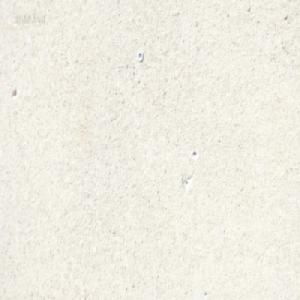Washer: (137, 51, 144, 62)
